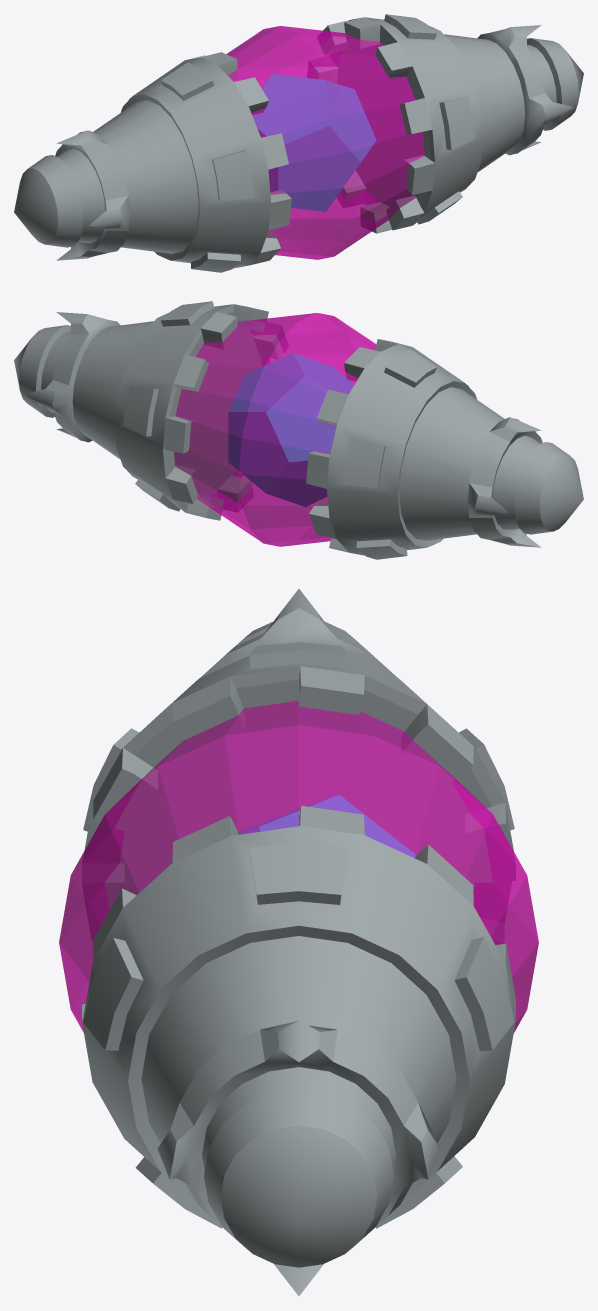
Rendered from Power Core 03.fbx.
3 views of the same model, one above another, from view 1: azimuth 30°, elevation 25°; view 2: azimuth 150°, elevation 25°; view 3: azimuth 270°, elevation 25° (orthographic). The views are drawn at different scales.
Visible parts, largest first — view 1: pCylinder1, pCylinder3, pCylinder2, pSolid1; view 2: pCylinder1, pCylinder3, pCylinder2, pSolid1; view 3: pCylinder3, pCylinder1, pCylinder2, pSolid1.
Part boxes in pixels (left/top/right/bottom): pCylinder1: left=14, top=52, right=291, bottom=272; pCylinder3: left=307, top=14, right=583, bottom=233; pCylinder2: left=226, top=26, right=424, bottom=259; pSolid1: left=252, top=74, right=376, bottom=211; pCylinder1: left=306, top=339, right=583, bottom=559; pCylinder3: left=14, top=301, right=287, bottom=520; pCylinder2: left=174, top=313, right=376, bottom=546; pSolid1: left=228, top=353, right=353, bottom=506; pCylinder3: left=82, top=805, right=515, bottom=1295; pCylinder1: left=82, top=589, right=515, bottom=944; pCylinder2: left=59, top=700, right=538, bottom=1033; pSolid1: left=171, top=795, right=416, bottom=863.
Size of the model in its own units: 6.48 by 2.36 by 2.36.
